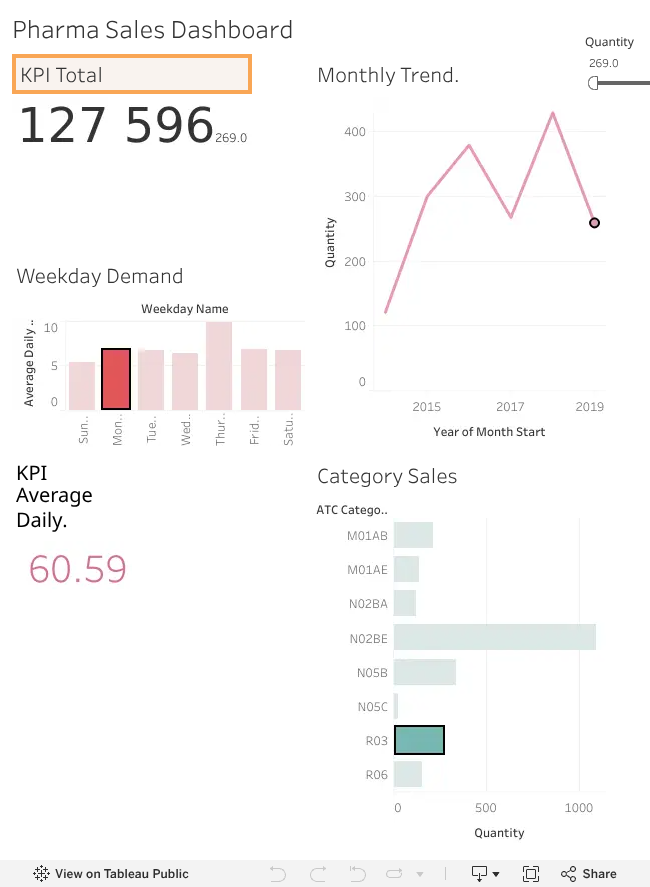

This screenshot's page, from the dashboard's own definition file:
{"tool":"powerbi","page":{"name":"Pharmaceutical Sales Analysis.","canvas":[1920,1080],"ordinal":0},"visuals":[{"type":"cardVisual","title":"Total quality","fields":{"Data":["sales.Total Quality Total Quantity"]},"box":[0,0,393.1,279.9],"z":0},{"type":"cardVisual","fields":{"Data":["sales.Average Daily Quantity"]},"box":[1545.8,0,374.6,279.9],"z":1},{"type":"cardVisual","fields":{"Data":["sales.Peak Daily Quantity"]},"box":[1228.8,0,317,279.9],"z":2},{"type":"lineChart","title":"Monthly Quantity Trend.","fields":{"Category":["sales.Month_Start.Variation.Date Hierarchy.Year","sales.Month_Start.Variation.Date Hierarchy.Quarter","sales.Month_Start.Variation.Date Hierarchy.Month","sales.Month_Start.Variation.Date Hierarchy.Day"],"Y":["sales.Total Quality Total Quantity"]},"box":[0,279.9,695.7,279.9],"z":3},{"type":"clusteredBarChart","title":"Quantity by ATC Category","fields":{"Category":["sales.ATC_Category"],"Series":["sales.Weekday_Name"],"Y":["sales.Total Quality Total Quantity"]},"box":[695.7,284,1224.7,796.6],"z":4},{"type":"clusteredColumnChart","title":"Average Daily Quantity by Weekday","fields":{"Category":["sales.Weekday_Name"],"Y":["sales.Average Daily Quantity"]},"box":[0,560,696,520],"z":5},{"type":"slicer","title":"year","fields":{"Values":["sales.Month_Start.Variation.Date Hierarchy.Year"]},"box":[403.4,0,413.7,279.9],"z":6},{"type":"slicer","title":"ATC Category","fields":{"Values":["sales.ATC_Category"]},"box":[817.2,0,411.7,284],"z":7}]}

Visuals, with their boxes on the page's 1920x1080 design canvas (x1, y1, x2, y2). These are canvas units, not pixel positions in the 650x887 screenshot, which may show the page scaled, cropped or inside an application window:
"Total quality" cardVisual: select_region(0, 0, 393, 280)
cardVisual - sales.Average Daily Quantity: select_region(1546, 0, 1920, 280)
cardVisual - sales.Peak Daily Quantity: select_region(1229, 0, 1546, 280)
"Monthly Quantity Trend." lineChart: select_region(0, 280, 696, 560)
"Quantity by ATC Category" clusteredBarChart: select_region(696, 284, 1920, 1081)
"Average Daily Quantity by Weekday" clusteredColumnChart: select_region(0, 560, 696, 1080)
"year" slicer: select_region(403, 0, 817, 280)
"ATC Category" slicer: select_region(817, 0, 1229, 284)
